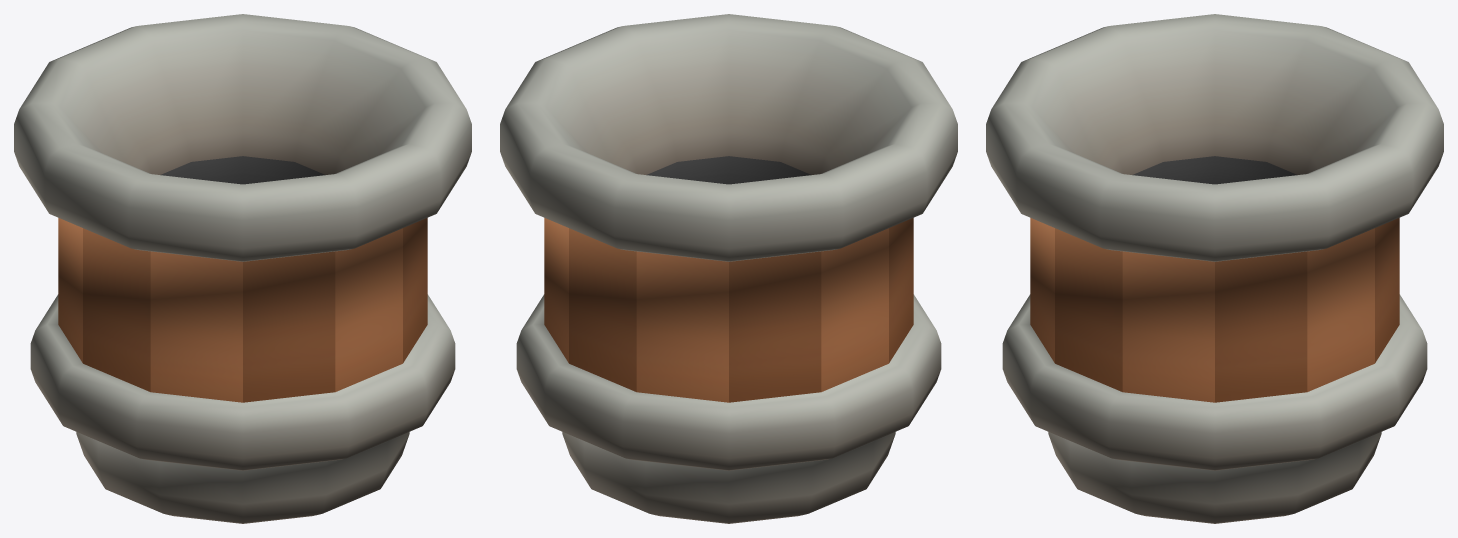
Rendered from mct_prop_trashcan.fbx.
3 renders of one model, left to right at view 1: azimuth 30°, elevation 25°; view 2: azimuth 150°, elevation 25°; view 3: azimuth 270°, elevation 25°, orthographic.
Visible parts, largest first — view 1: mct_trashcan; view 2: mct_trashcan; view 3: mct_trashcan.
Part boxes in pixels (<box>): mct_trashcan: <box>14,14,471,523</box>; mct_trashcan: <box>500,14,957,523</box>; mct_trashcan: <box>986,14,1443,523</box>.
Bounding box in the file's own units: 91.18 × 79.43 × 91.18.
